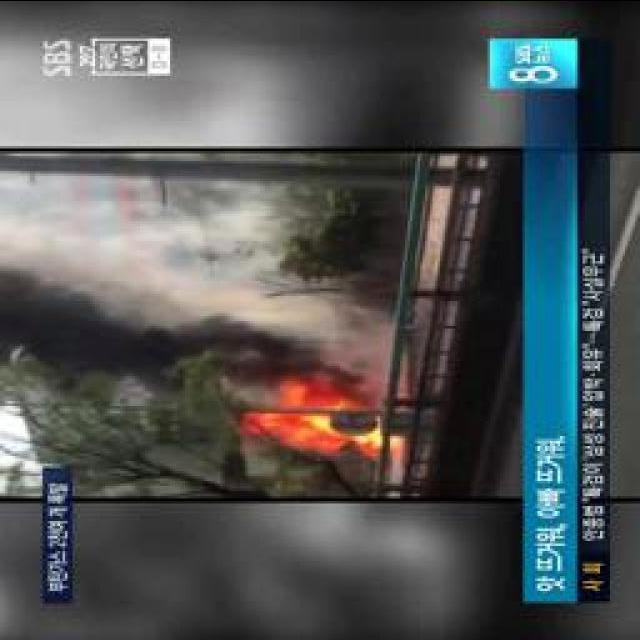Fire: (248, 378, 407, 463)
